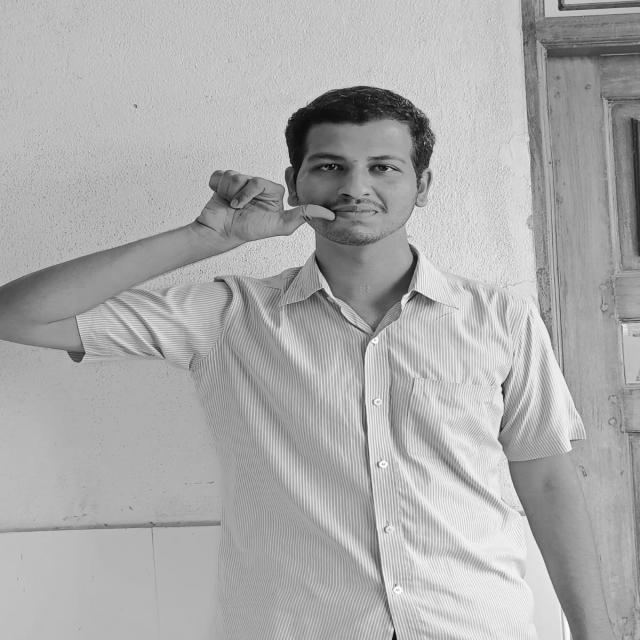Drink: (189, 168, 339, 248)
